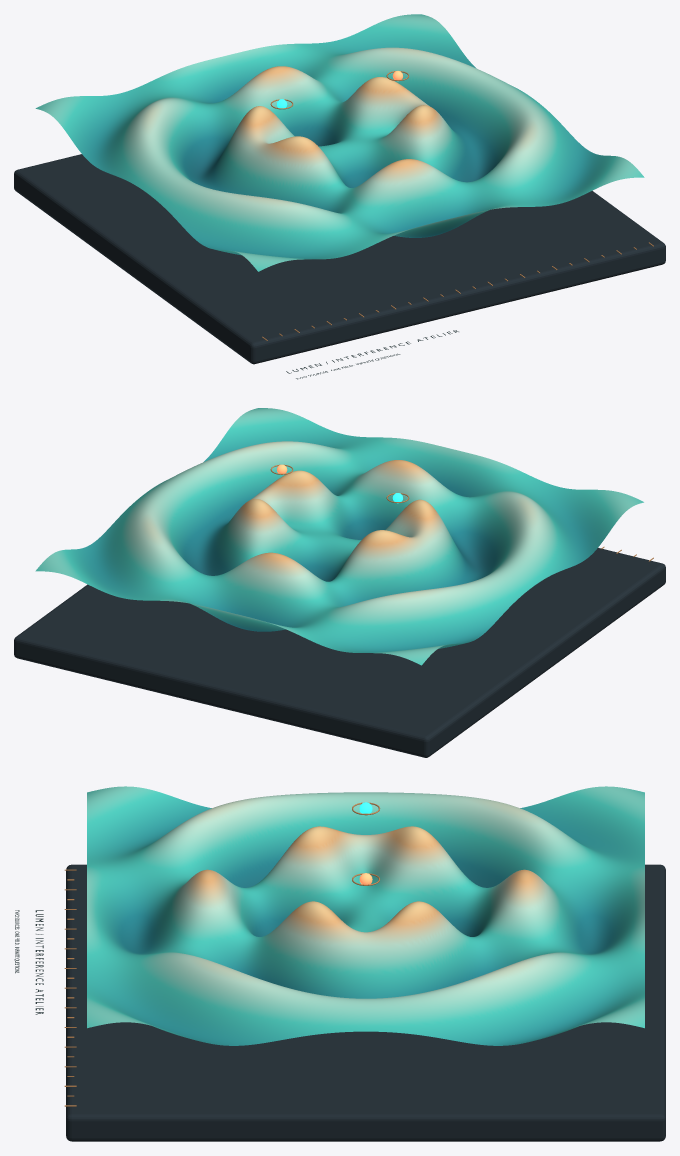
Rendered from lumen.glb.
The picture shows the model from 3 angles, top to bottom: view 1: azimuth 30°, elevation 25°; view 2: azimuth 150°, elevation 25°; view 3: azimuth 270°, elevation 25°; orthographic projection. The views are drawn at different scales.
Visible parts, largest first — view 1: Wave_Surface___select_me_to_tinker, The_measurement_stage; view 2: Wave_Surface___select_me_to_tinker, The_measurement_stage; view 3: Wave_Surface___select_me_to_tinker, The_measurement_stage.
Part boxes in pixels (<box>): Wave_Surface___select_me_to_tinker: <box>35,14,644,271</box>; The_measurement_stage: <box>14,154,665,364</box>; Wave_Surface___select_me_to_tinker: <box>35,408,643,665</box>; The_measurement_stage: <box>14,548,665,757</box>; Wave_Surface___select_me_to_tinker: <box>87,786,644,1045</box>; The_measurement_stage: <box>66,864,665,1141</box>.
Size of what is drawn, in the model's own units: 12.9 by 4.36 by 14.02.
